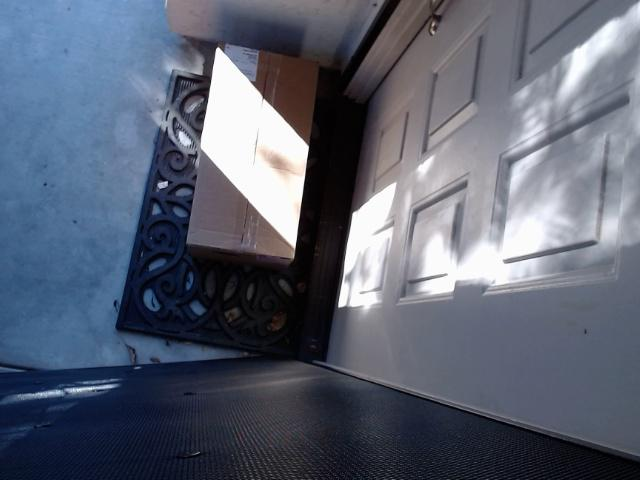box: (186, 40, 319, 270)
